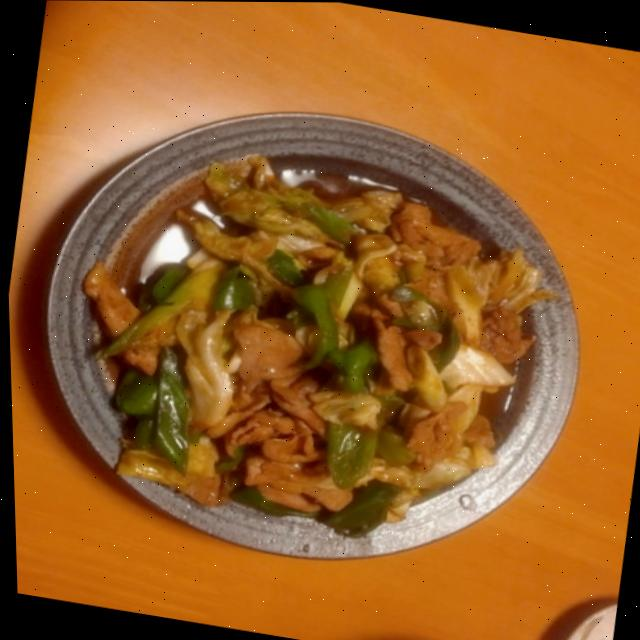米饭主食: (525, 598, 593, 640)
